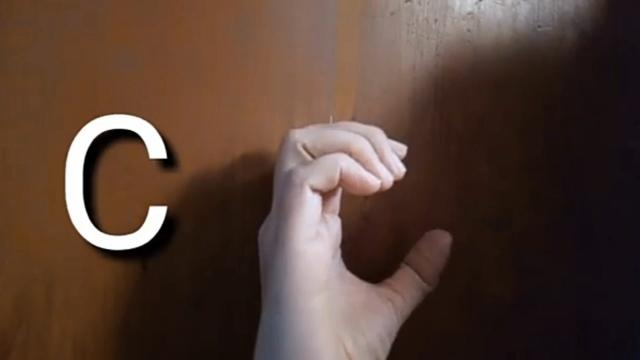C: (252, 116, 450, 360)
